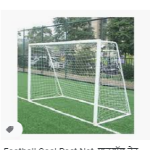goals: (28, 39, 132, 125)
